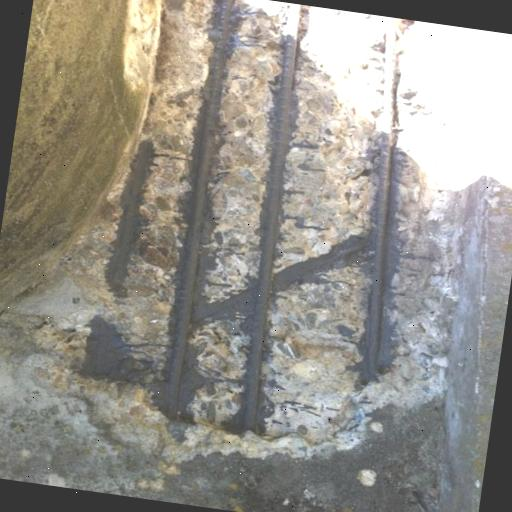spalling: (64, 0, 489, 477)
